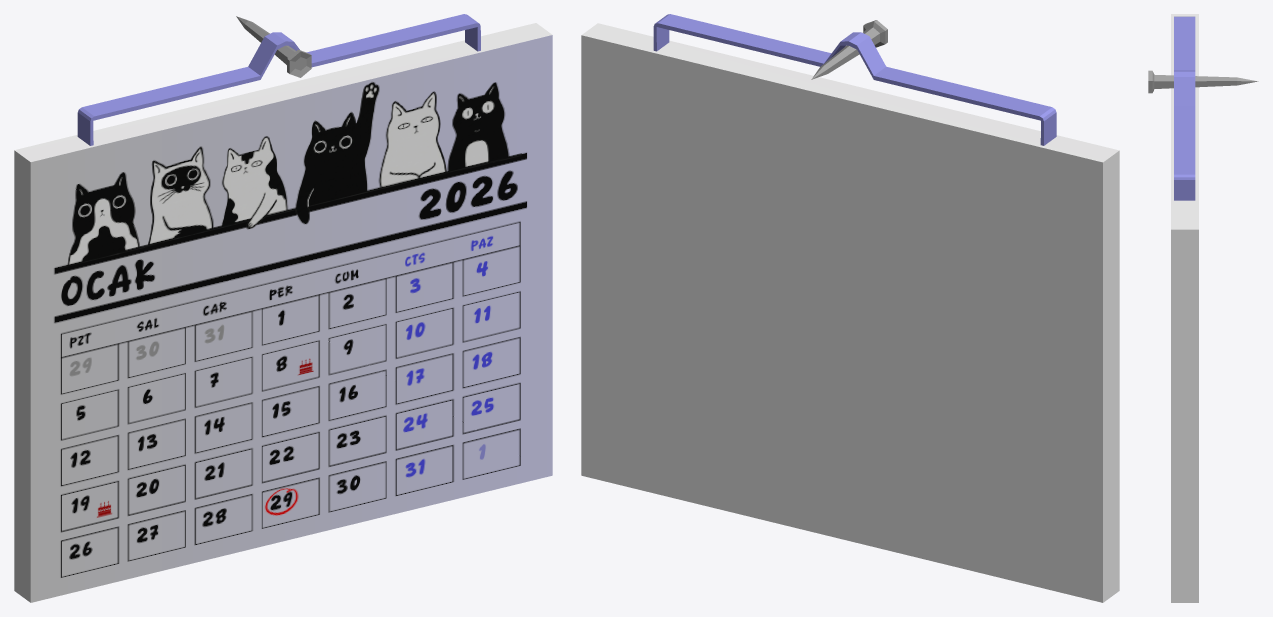
Rendered from Takvim.fbx.
3 renders of one model, left to right at view 1: azimuth 30°, elevation 25°; view 2: azimuth 150°, elevation 25°; view 3: azimuth 270°, elevation 25°, orthographic. The views are drawn at different scales.
Parts seen in each view (by area): view 1: Cube.002; view 2: Cube.002; view 3: Cube.002.
Part boxes in pixels (left/top/right/bottom): Cube.002: left=14, top=14, right=552, bottom=602; Cube.002: left=581, top=14, right=1119, bottom=602; Cube.002: left=1148, top=14, right=1258, bottom=602.
Size of the model in its own units: 275 by 251 by 59.6.
